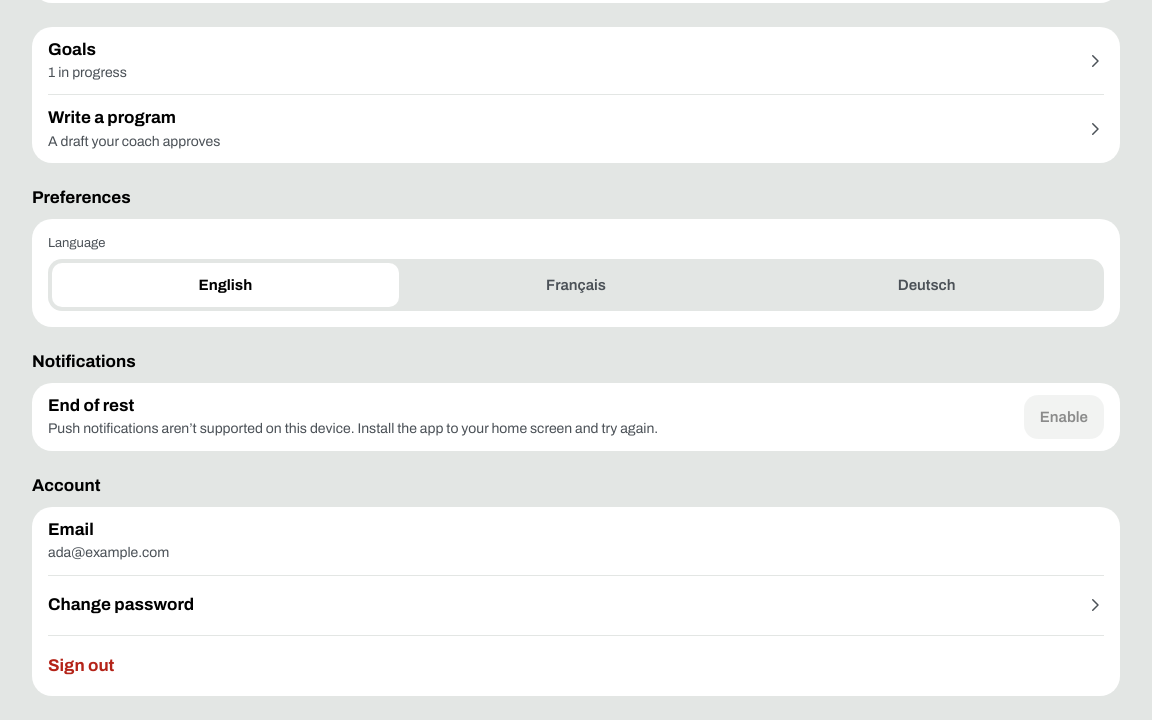
Test: StudentProfile › change-password dialog: rejects mismatched passwords, without a sign-in
(page scrolled)
Click the button "Change password" at (121, 605), box [48, 576, 1104, 636]
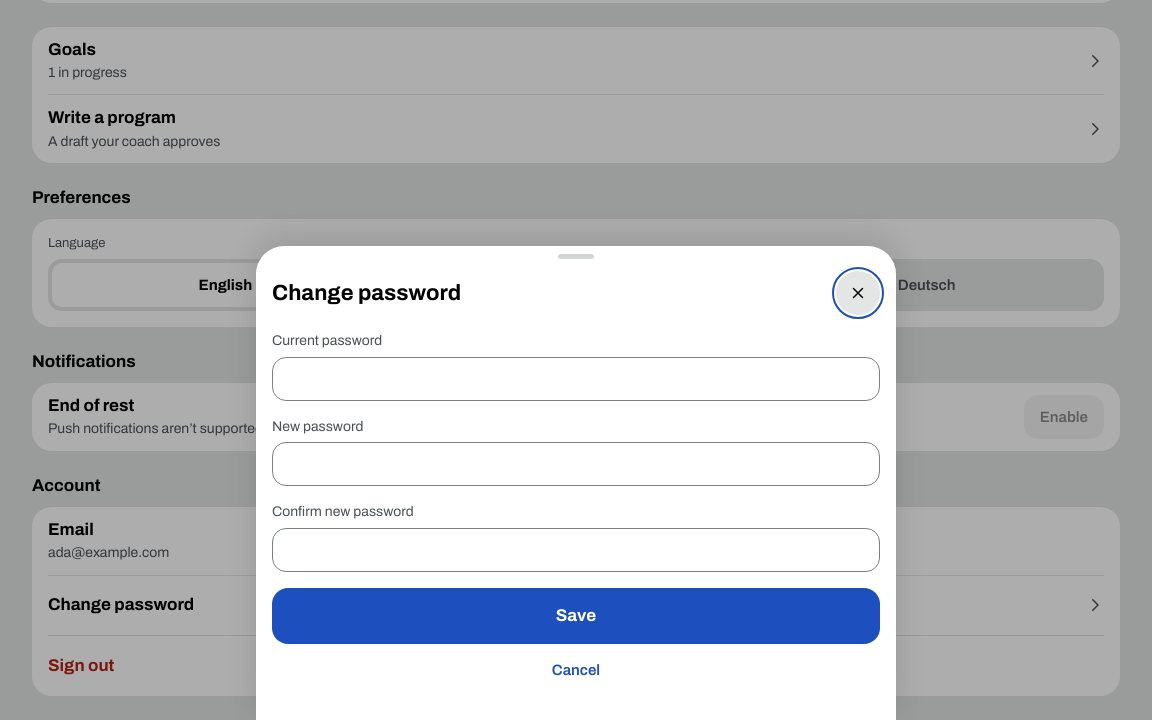
Type "oldpassword1" into the password field labelled "Current password" at (576, 379), box [272, 357, 880, 401]
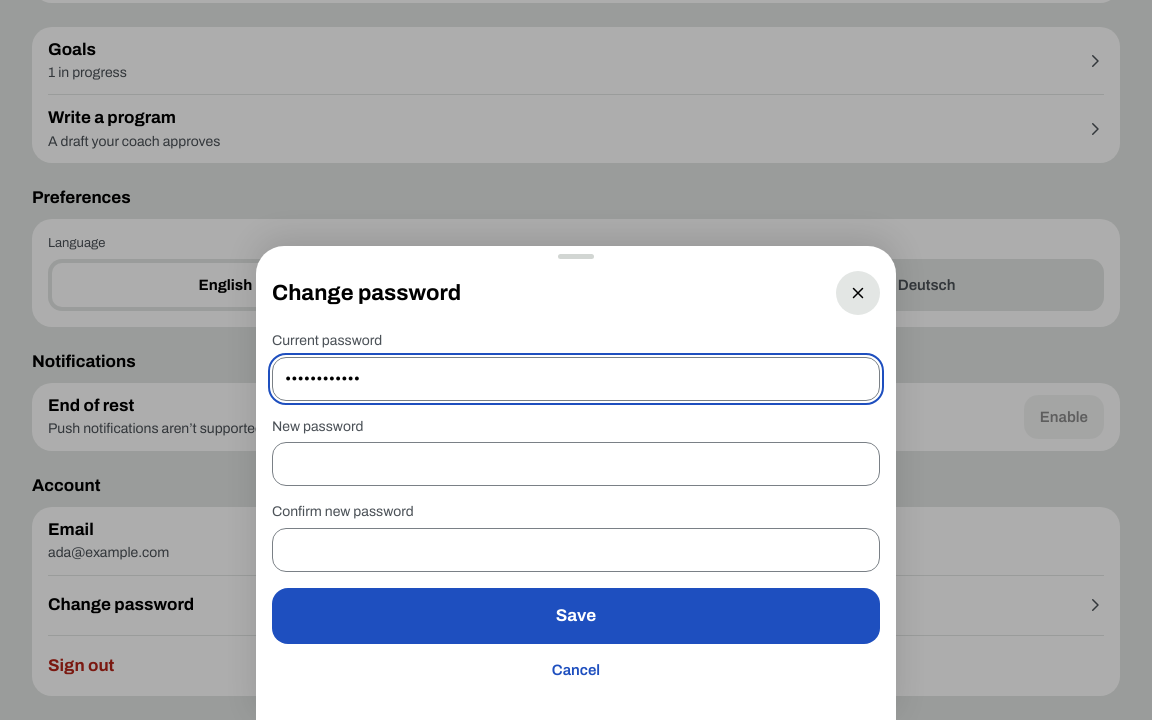
Type "longenough1" into the password field labelled "New password" at (576, 464), box [272, 442, 880, 486]
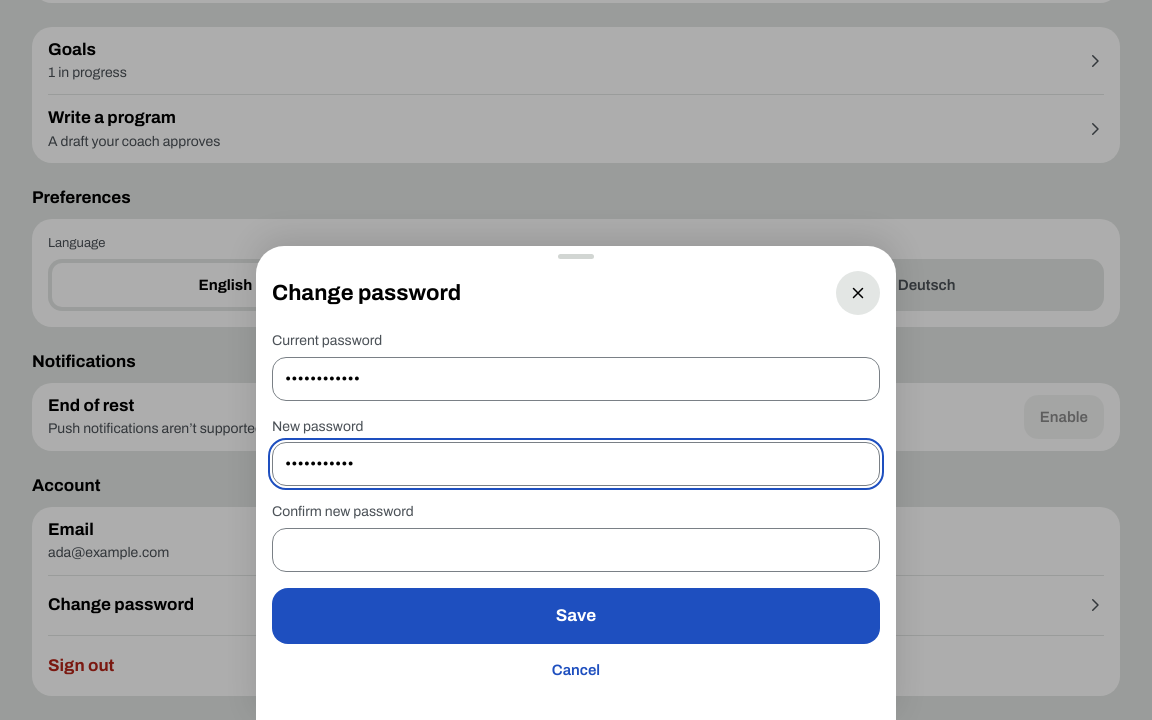
Type "differentpw1" into the password field labelled "Confirm new password" at (576, 550), box [272, 528, 880, 572]
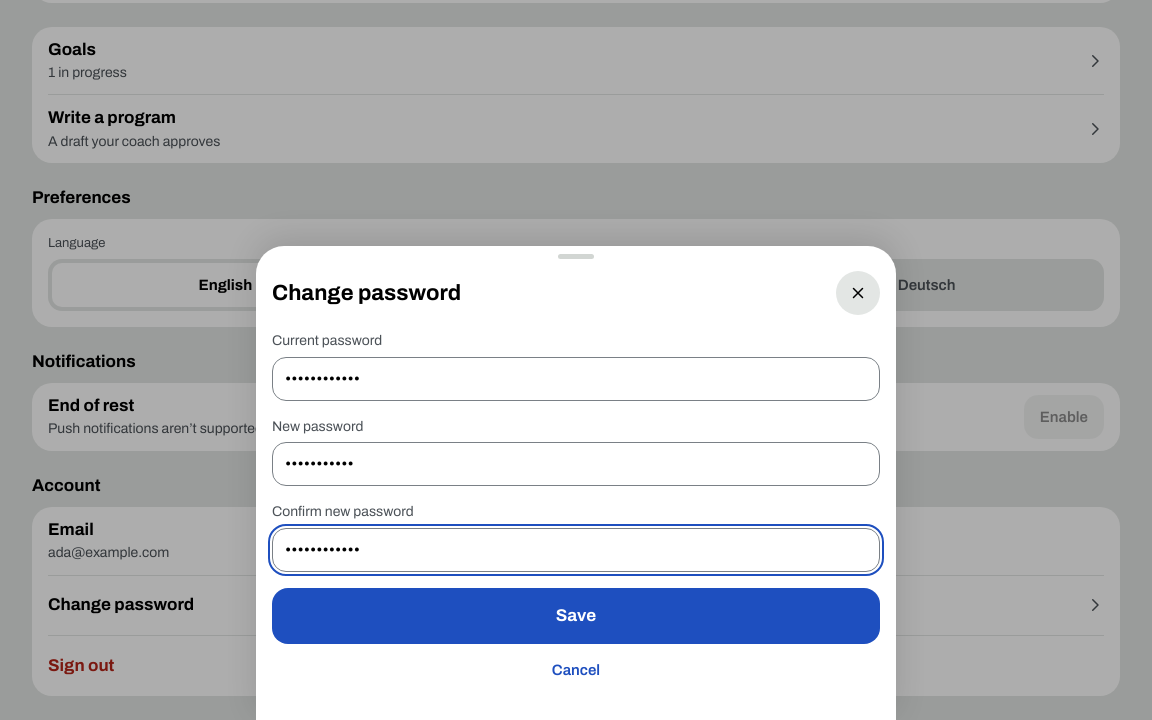
Click the button "Save" at (576, 616), box [272, 588, 880, 644]
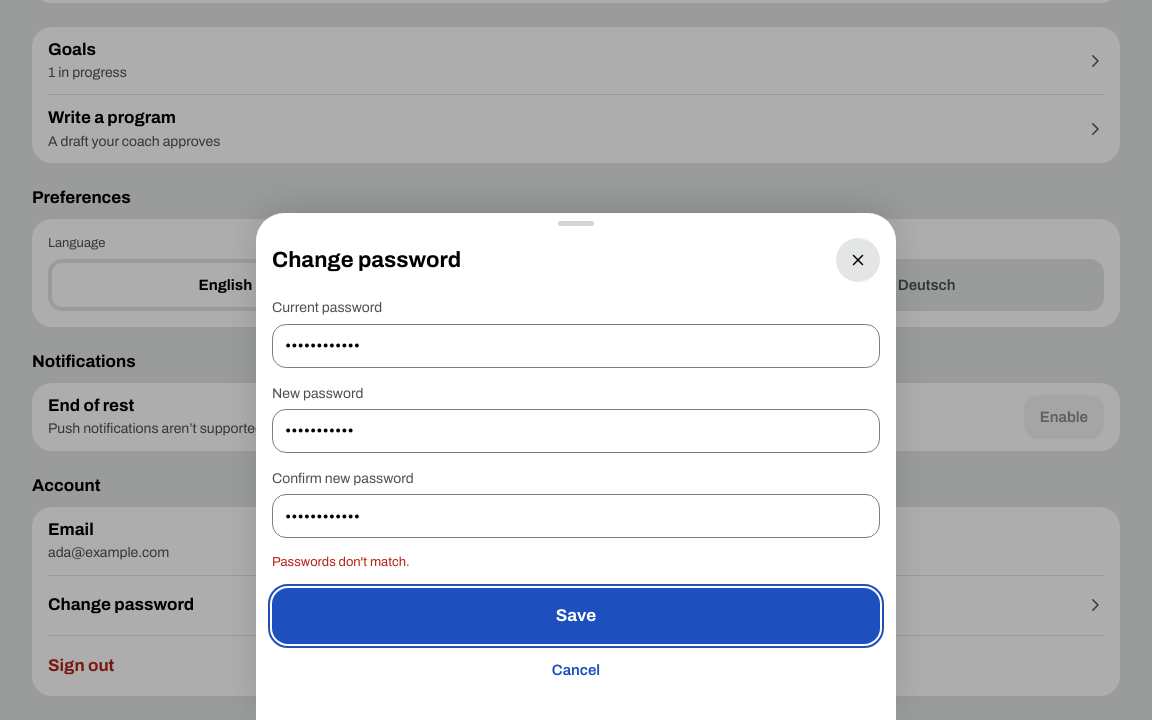
Check: the text "Passwords don't match." is shown, box [272, 556, 410, 570]
